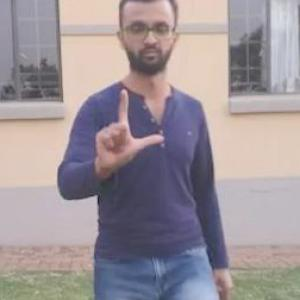land_hand: (88, 81, 169, 176)
